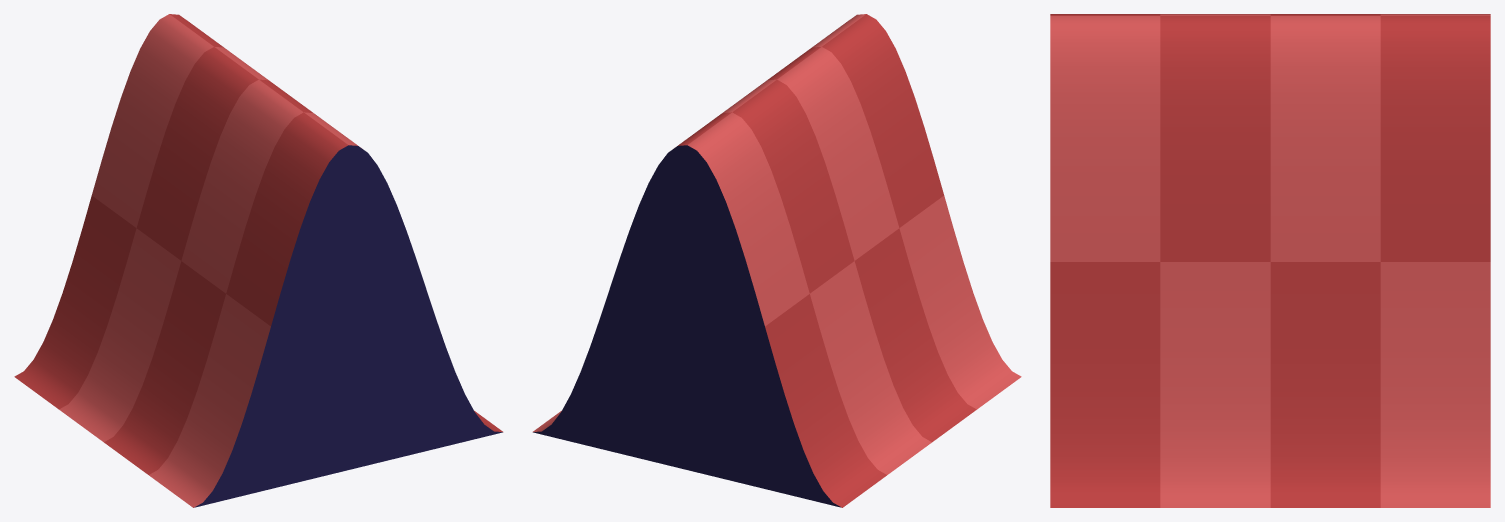
The model's file is arch_red.glb.
3 views of the same model, side by side, from view 1: azimuth 30°, elevation 25°; view 2: azimuth 150°, elevation 25°; view 3: azimuth 270°, elevation 25° (orthographic). The views are drawn at different scales.
Parts seen in each view (by area): view 1: Body; view 2: Body; view 3: Body.
Part boxes in pixels (<box>): Body: <box>14,14,503,507</box>; Body: <box>532,14,1021,507</box>; Body: <box>1050,14,1490,507</box>.
Bounding box in the file's own units: 1 × 1 × 1.
